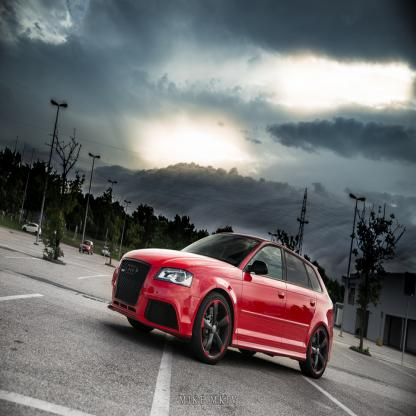Car: (109, 235, 335, 380), (23, 223, 42, 238), (79, 238, 93, 257), (103, 247, 112, 259)
